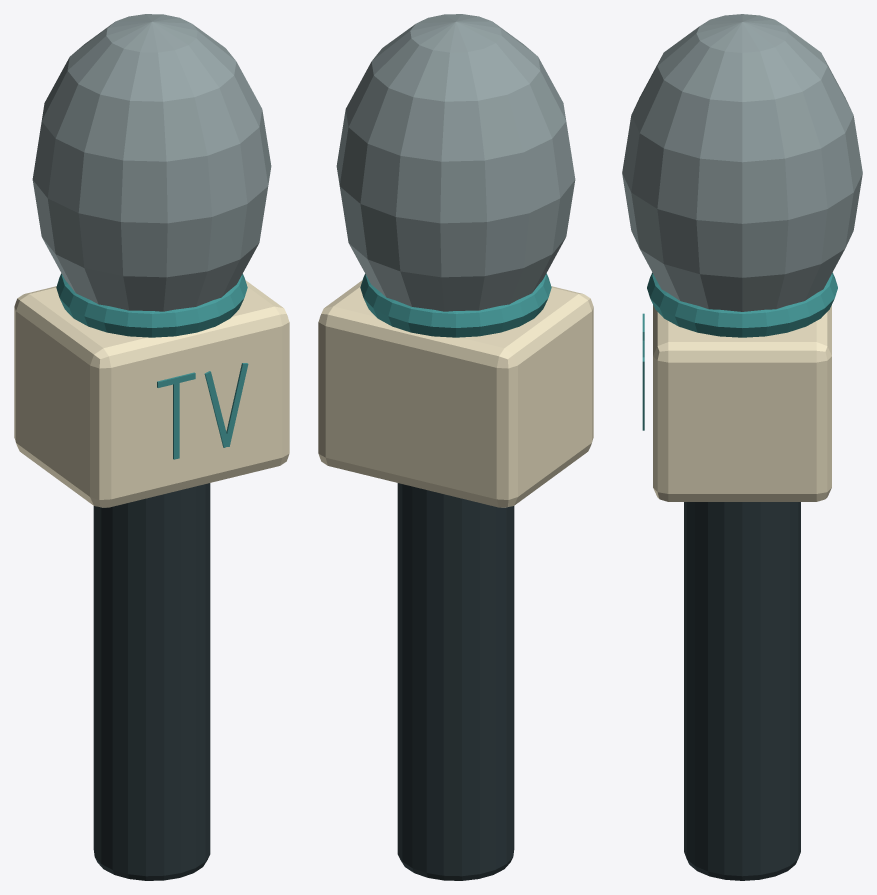
Rendered from P083_interview_mic.glb.
3 views of the same model, side by side, from view 1: azimuth 30°, elevation 25°; view 2: azimuth 150°, elevation 25°; view 3: azimuth 270°, elevation 25° (orthographic).
Parts seen in each view (by area): view 1: P083_grille_002, P083_handle_001, P083_mic_flag_004, P083_collar_003, P083_channel_005; view 2: P083_grille_002, P083_mic_flag_004, P083_handle_001, P083_collar_003; view 3: P083_grille_002, P083_handle_001, P083_mic_flag_004, P083_collar_003.
Boxes of the visible parts, x1,y1,x2,y2 form: P083_grille_002: (32, 14, 271, 311); P083_handle_001: (93, 483, 210, 880); P083_mic_flag_004: (14, 280, 289, 507); P083_collar_003: (56, 273, 247, 337); P083_channel_005: (157, 363, 248, 459); P083_grille_002: (336, 14, 575, 311); P083_mic_flag_004: (318, 280, 593, 507); P083_handle_001: (397, 483, 514, 880); P083_collar_003: (360, 273, 551, 337); P083_grille_002: (622, 14, 862, 311); P083_handle_001: (684, 502, 800, 880); P083_mic_flag_004: (653, 305, 831, 501); P083_collar_003: (647, 272, 837, 337).
Bounding box in the file's own units: 0.078 × 0.2995 × 0.078.
